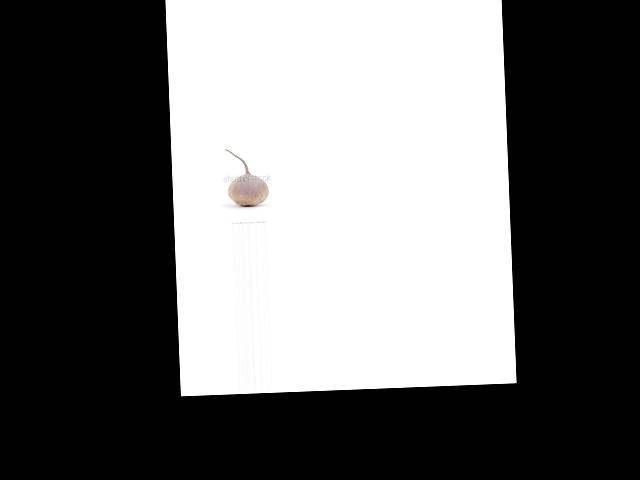beet: (225, 147, 270, 207)
